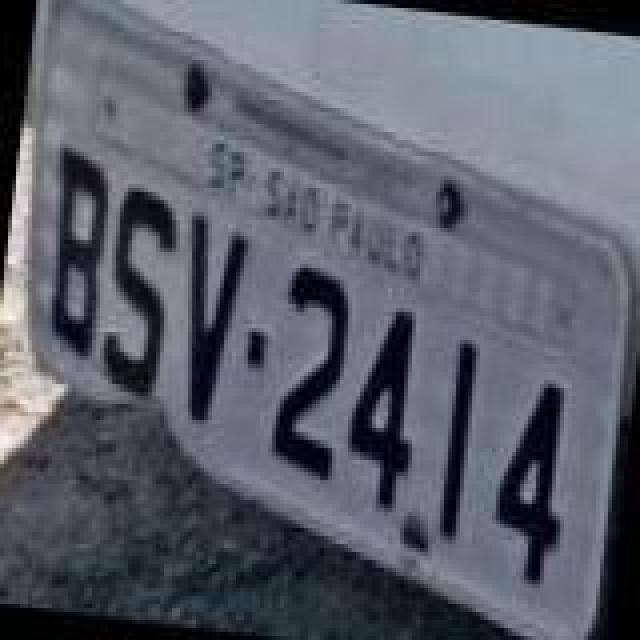1: (430, 334, 482, 546)
2: (266, 260, 358, 484)
4: (484, 378, 580, 590), (338, 302, 430, 514)
B: (34, 146, 118, 366)
S: (96, 188, 184, 404)
V: (166, 212, 250, 428)
